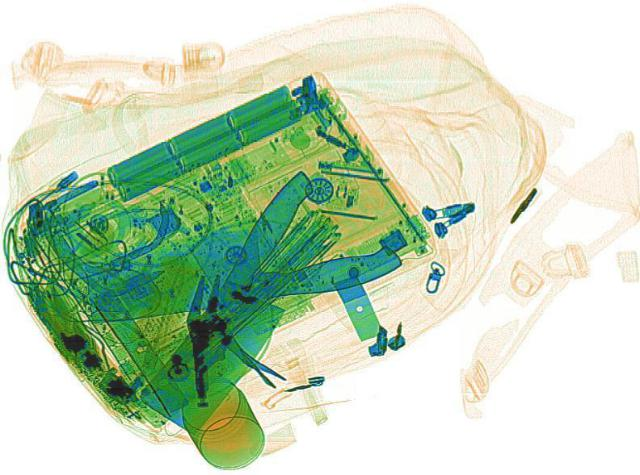Knife: (121, 168, 369, 435), (68, 200, 406, 331)
